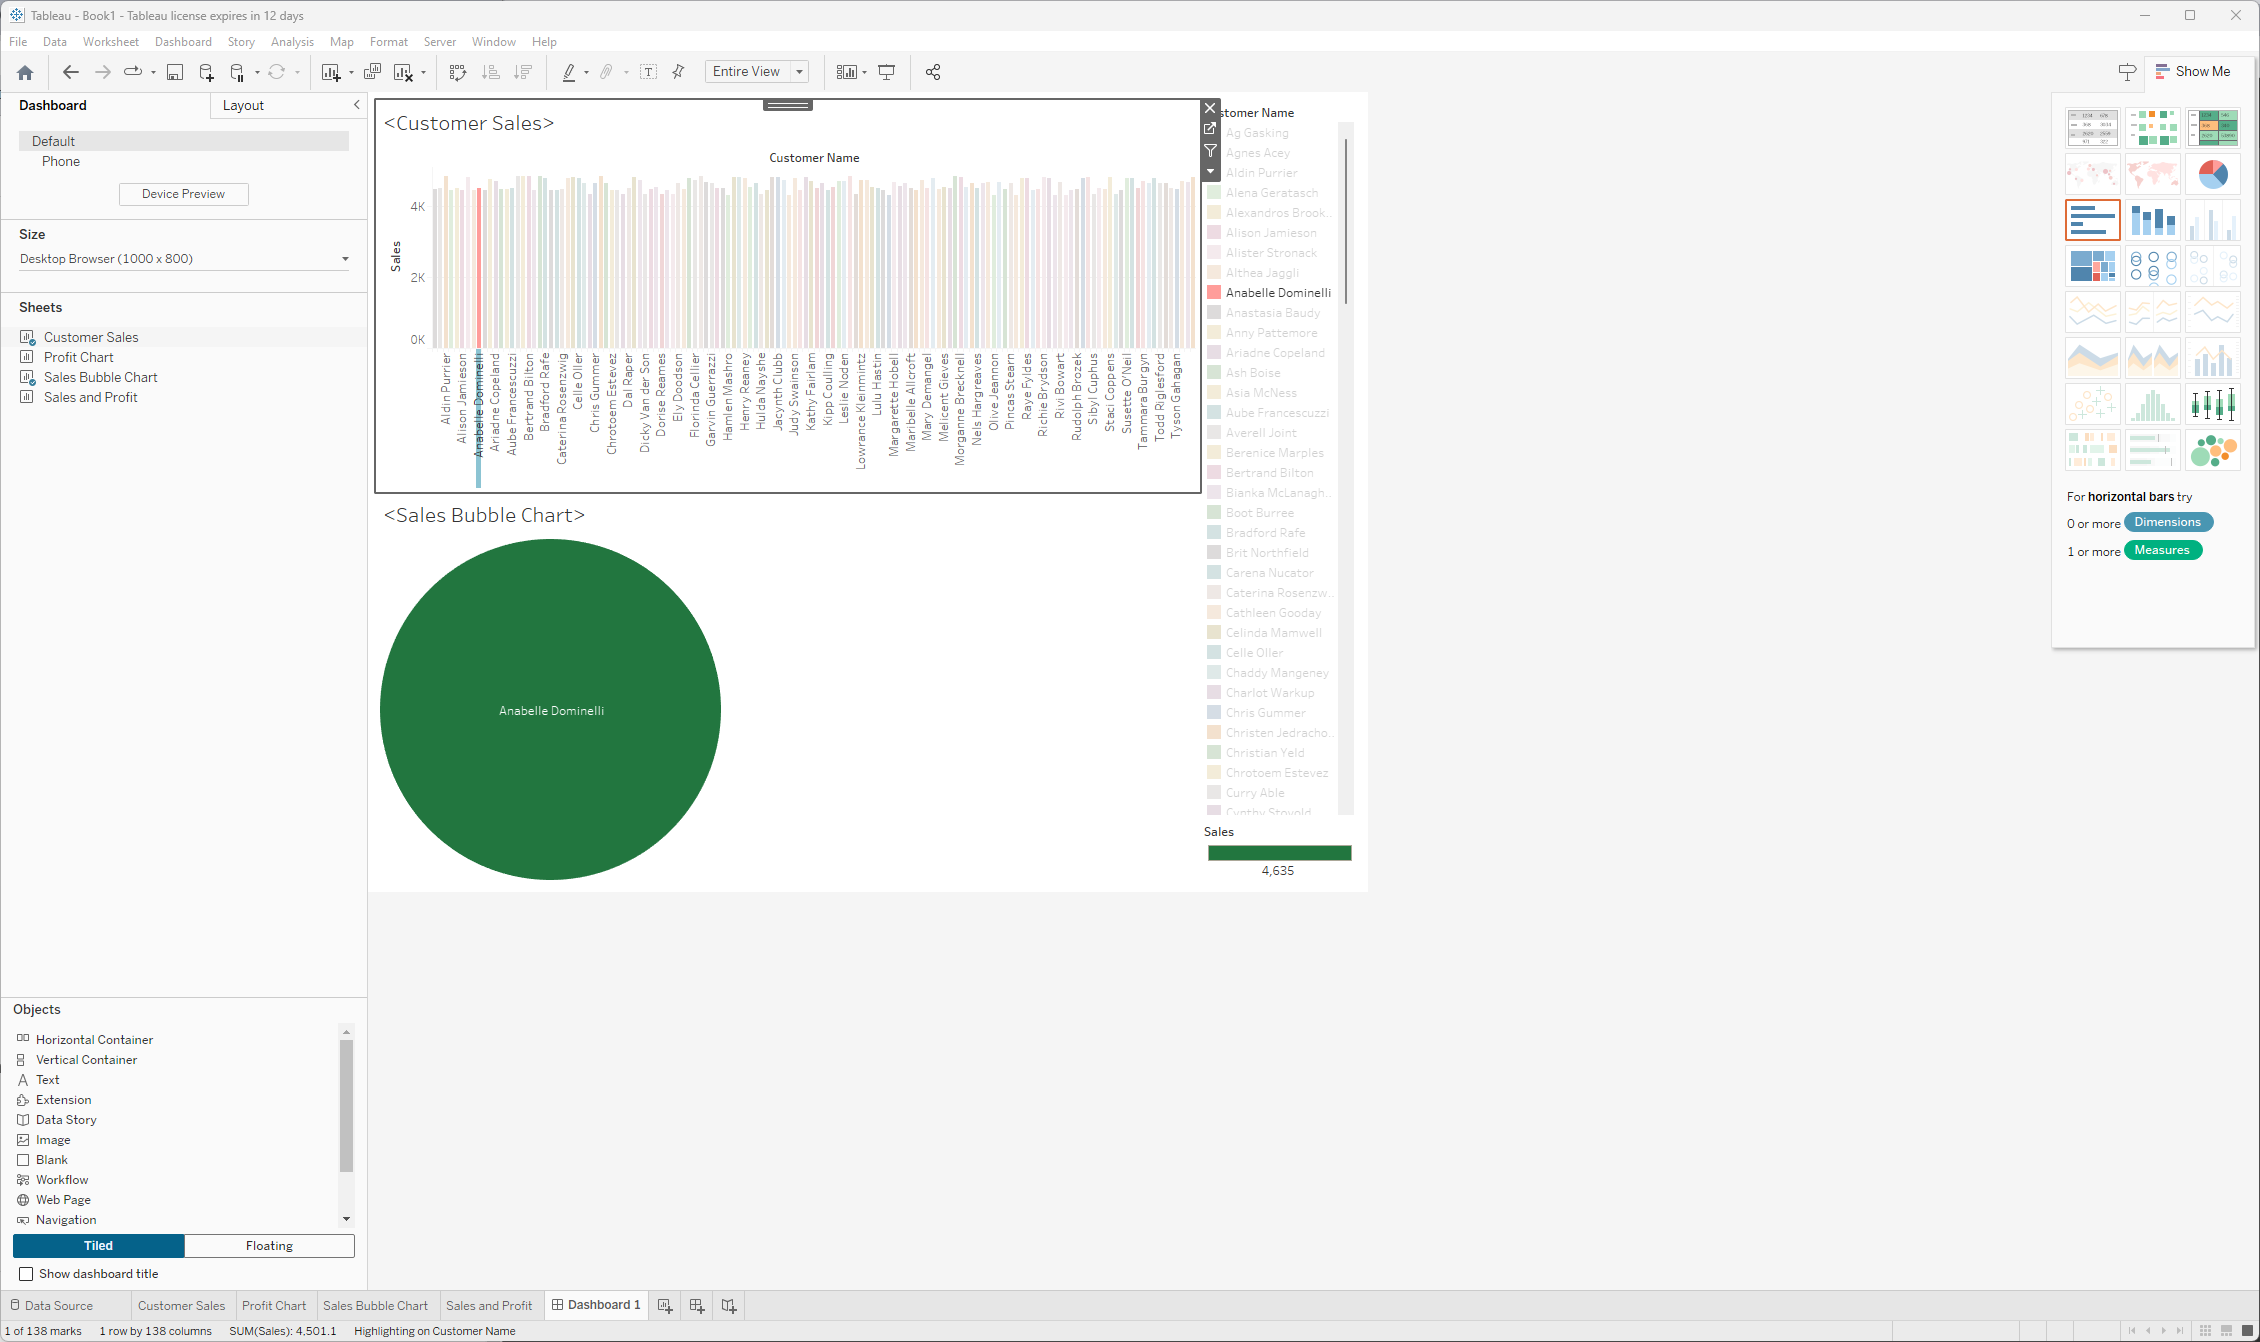

Layout of this report page (visuals, bound fields, positions):
{"tool":"tableau","page":{"name":"Dashboard 1","canvas":[1000,800],"ordinal":0},"visuals":[{"type":"worksheet","title":"Customer Sales","mark":"Automatic","rows":["Sales"],"cols":["Customer Name"],"box":[8,8,824,392]},{"type":"legend","title":"Customer Sales","param":"[federated.19uamv807yd71l17z46cx1u6muco].[none:Customer Name:nk]","box":[832,8,160,719]},{"type":"worksheet","title":"Sales Bubble Chart","mark":"Circle","box":[8,400,824,392]},{"type":"legend","title":"Sales Bubble Chart","param":"[federated.19uamv807yd71l17z46cx1u6muco].[sum:Sales:qk]","box":[832,727,160,65]}]}

Visuals, with their boxes on the page's 1000x800 design canvas (x1, y1, x2, y2). These are canvas units, not pixel positions in the 2260x1342 screenshot, which may show the page scaled, cropped or inside an application window:
"Customer Sales" worksheet: {"left": 8, "top": 8, "right": 832, "bottom": 400}
"Customer Sales" legend: {"left": 832, "top": 8, "right": 992, "bottom": 727}
"Sales Bubble Chart" worksheet (Circle marks): {"left": 8, "top": 400, "right": 832, "bottom": 792}
"Sales Bubble Chart" legend: {"left": 832, "top": 727, "right": 992, "bottom": 792}
